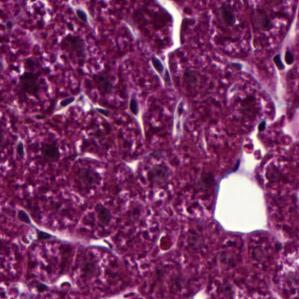inflammation: (52, 91, 111, 120), (14, 204, 54, 244), (146, 54, 182, 87), (268, 44, 299, 75)
